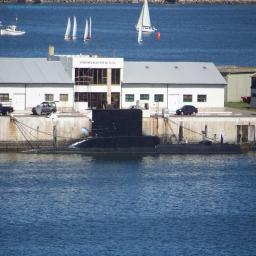submarine: (21, 103, 256, 155)
